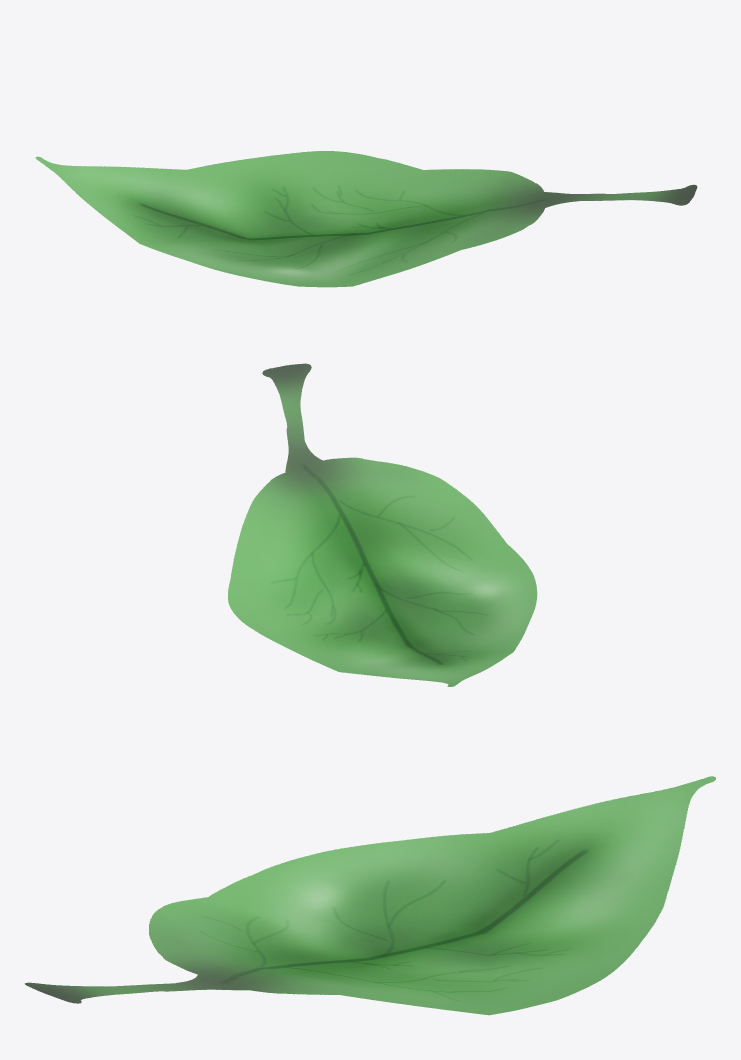
The model's file is leafNEW.fbx.
3 views of the same model, one above another, from view 1: azimuth 30°, elevation 25°; view 2: azimuth 150°, elevation 25°; view 3: azimuth 270°, elevation 25° (orthographic). The views are drawn at different scales.
Parts seen in each view (by area): view 1: pPlane1; view 2: pPlane1; view 3: pPlane1.
Part boxes in pixels (x1,y1,x2,y2): pPlane1: [35, 151, 697, 287]; pPlane1: [228, 363, 537, 686]; pPlane1: [24, 776, 715, 1015].
Bounding box in the file's own units: 2.25 × 0.4752 × 2.25.
1 material, 1 textured.
